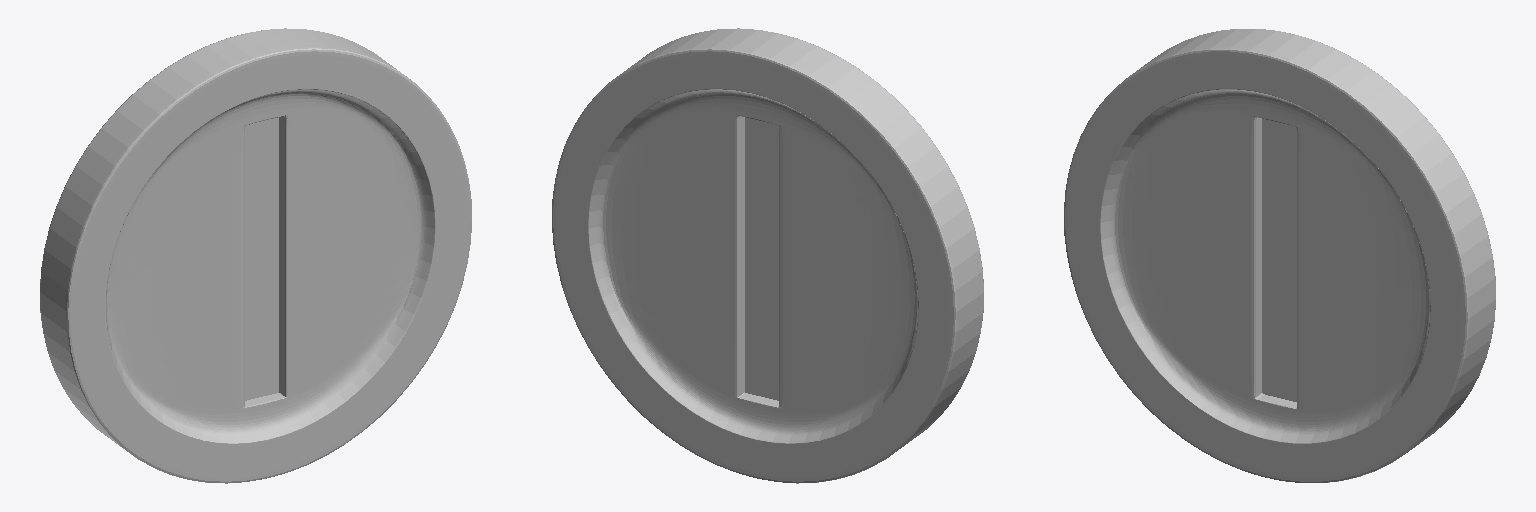
Rendered from coin.obj.
3 views of the same model, side by side, from view 1: azimuth 30°, elevation 25°; view 2: azimuth 150°, elevation 25°; view 3: azimuth 330°, elevation 25° (orthographic).
Visible parts, largest first — view 1: Coin; view 2: Coin; view 3: Coin.
Boxes of the visible parts, box(x1,y1,x2,y2) form: Coin: box(40, 28, 471, 483); Coin: box(552, 28, 983, 483); Coin: box(1064, 29, 1495, 482).
Bounding box in the file's own units: 2.52 × 2.52 × 0.3139.